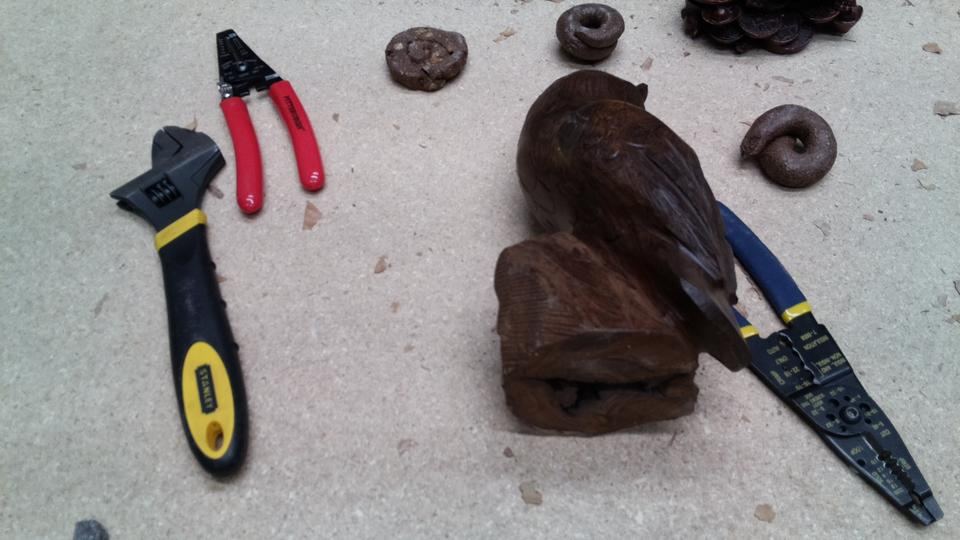poop: (736, 100, 843, 191), (382, 23, 471, 94), (554, 1, 628, 67)
